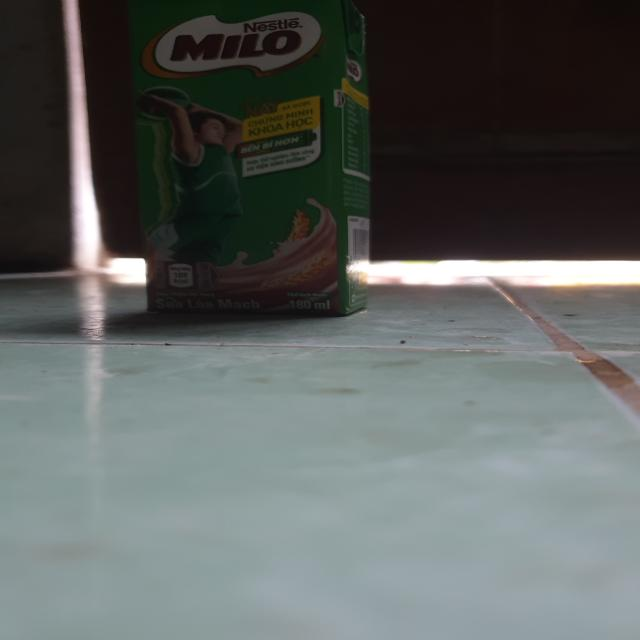Milo: (123, 2, 387, 324)
